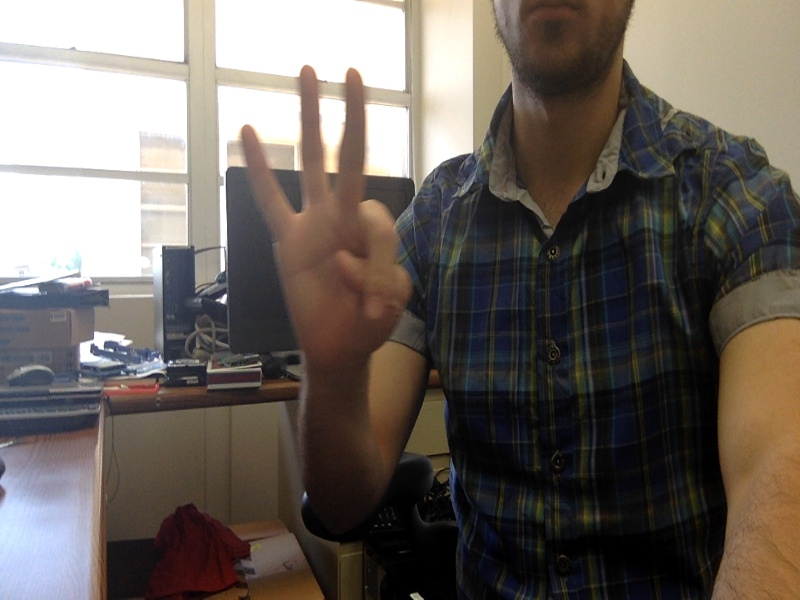3-hand: (237, 67, 406, 362)
